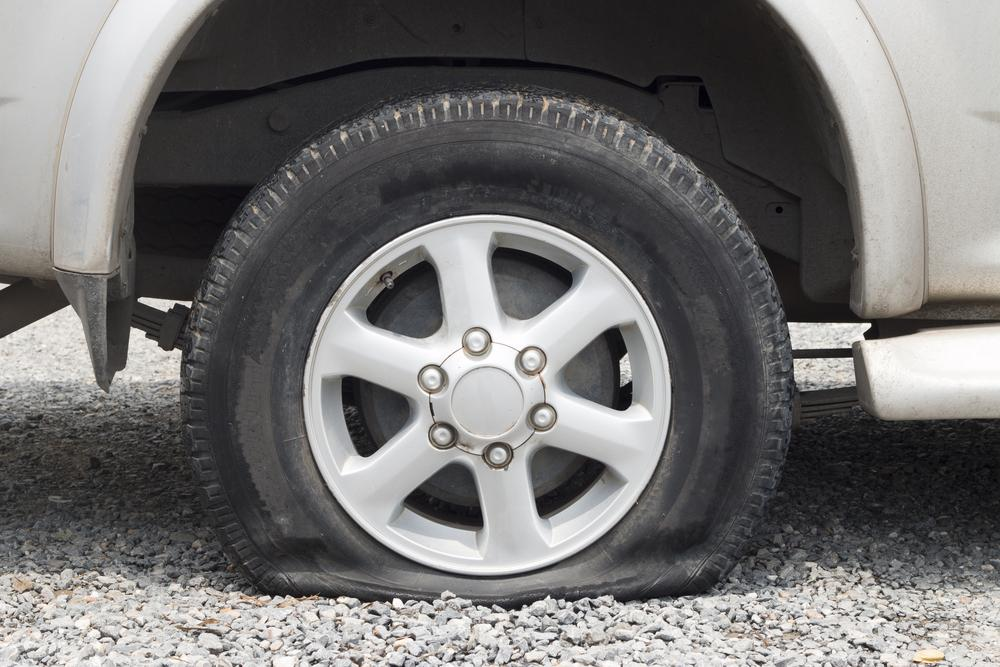tire flat: (178, 81, 795, 608)
